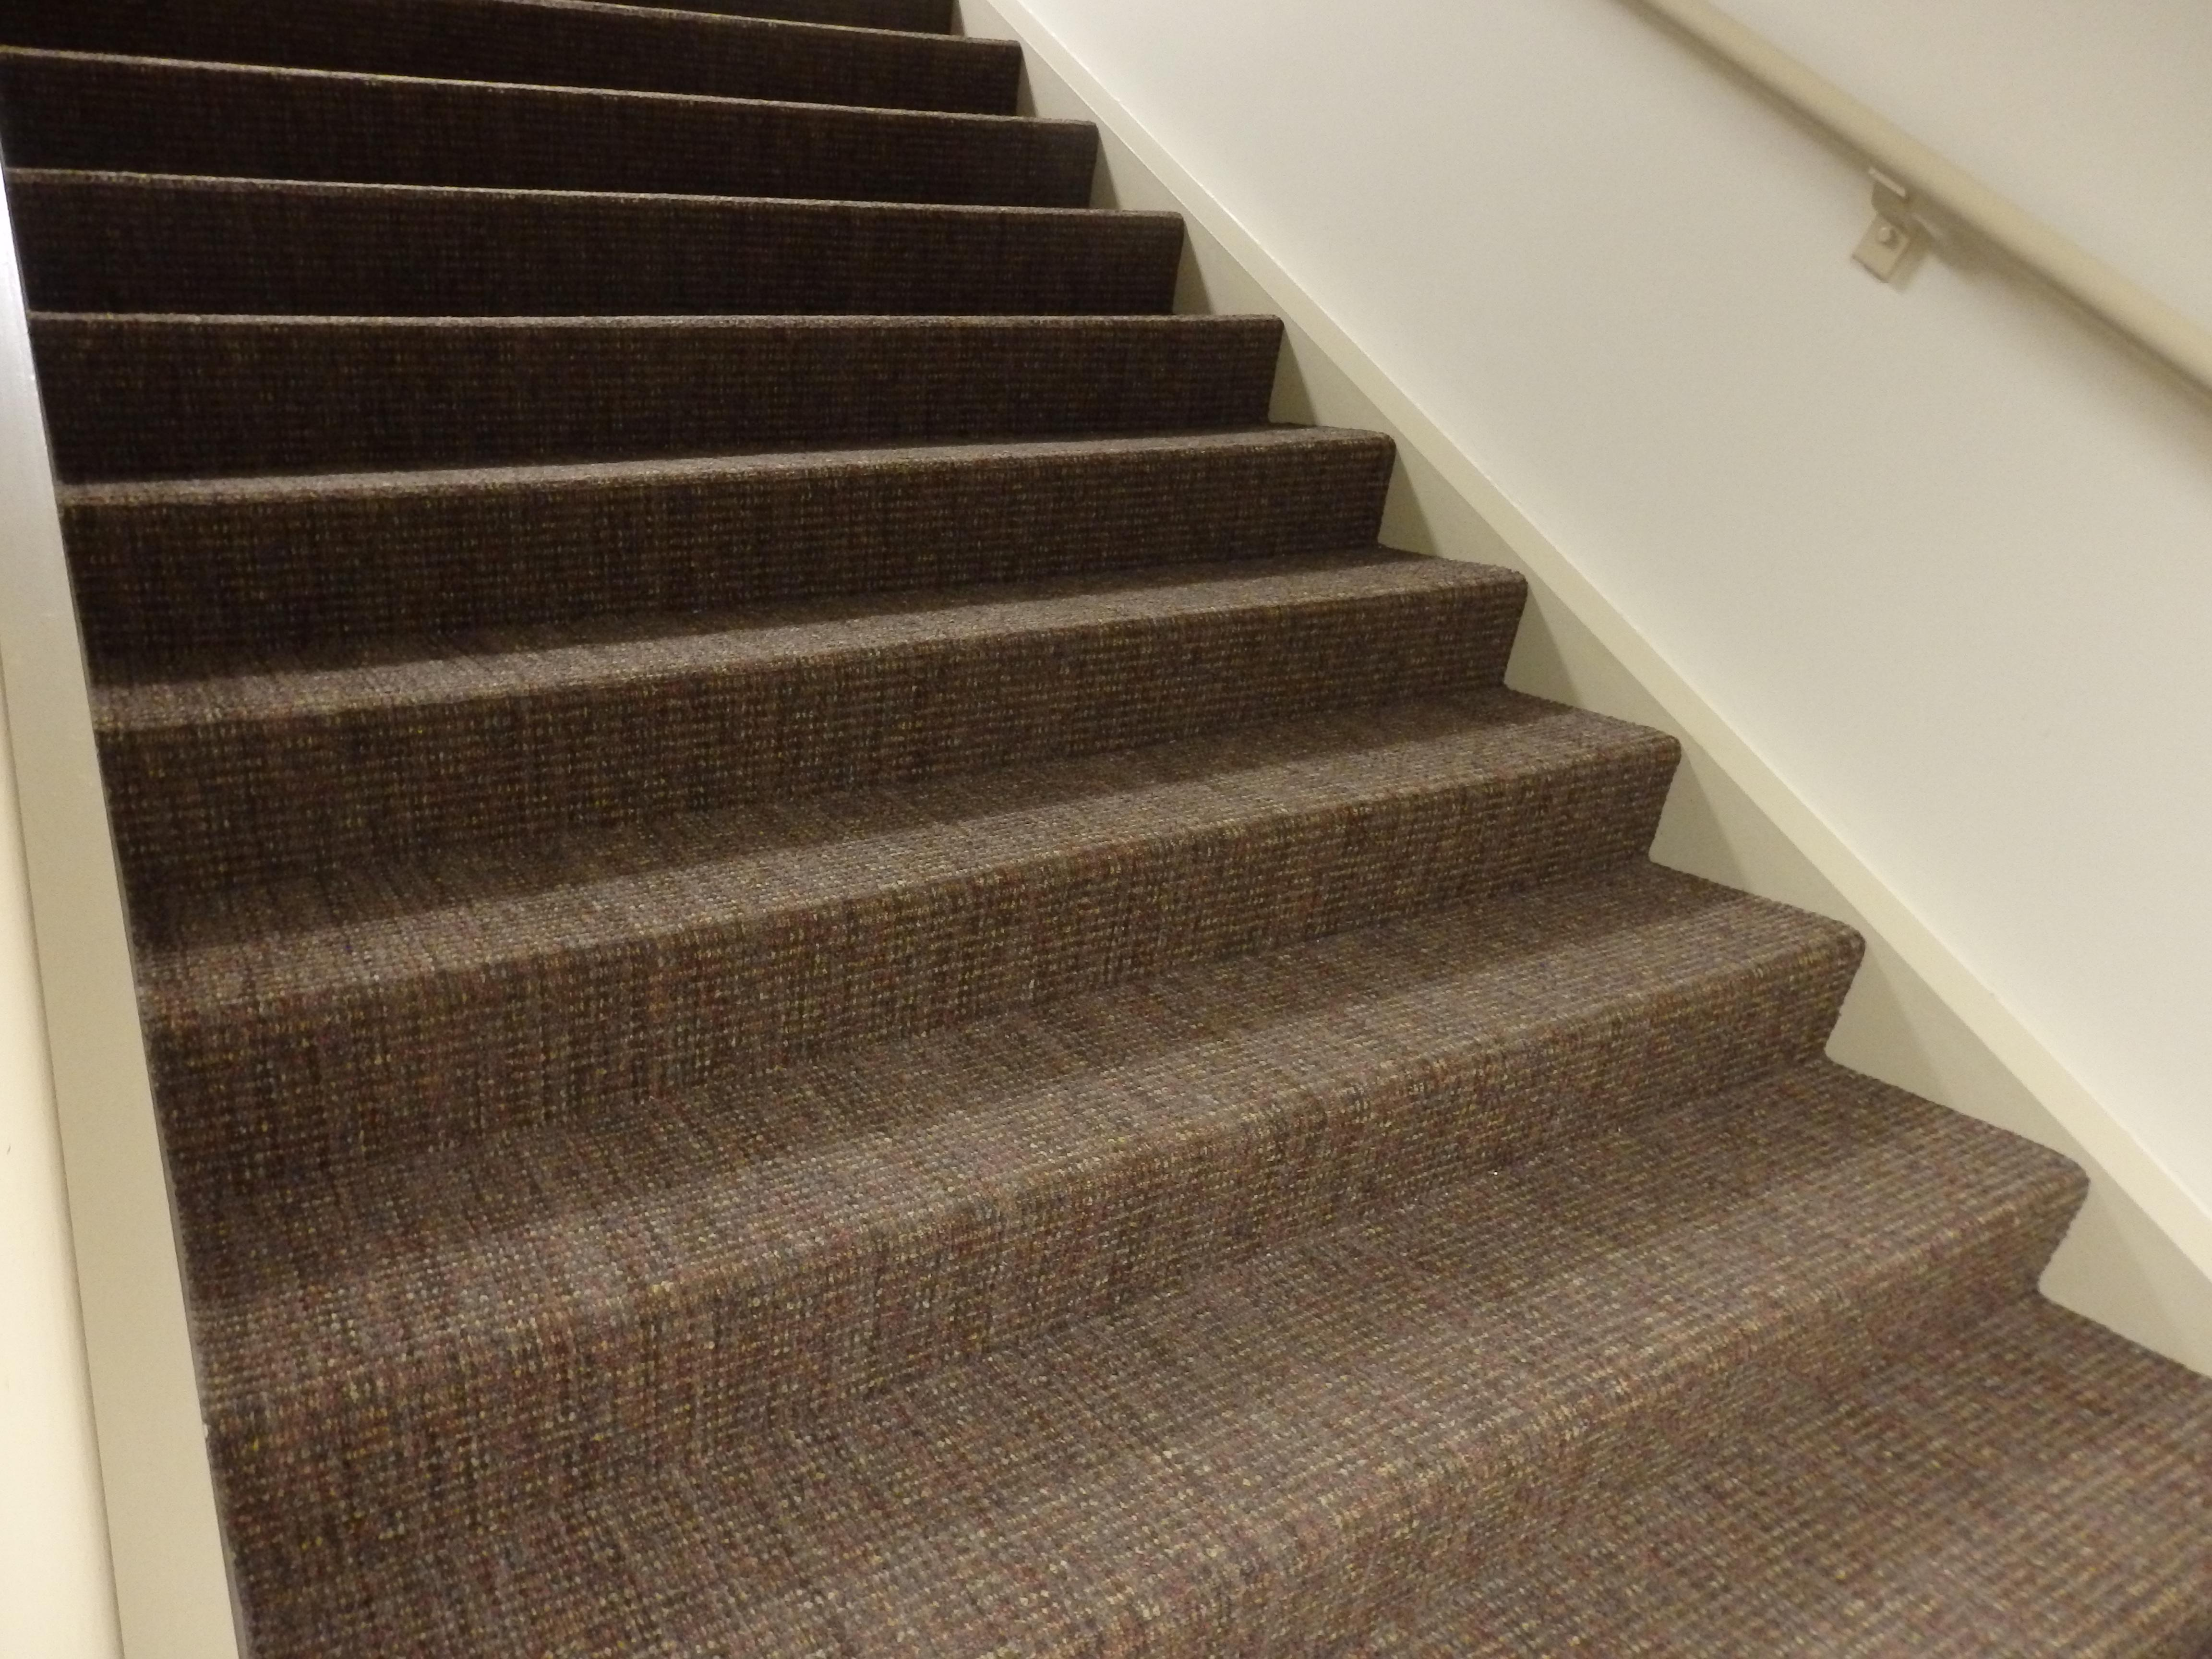stairs_up: (35, 10, 1991, 1572)
